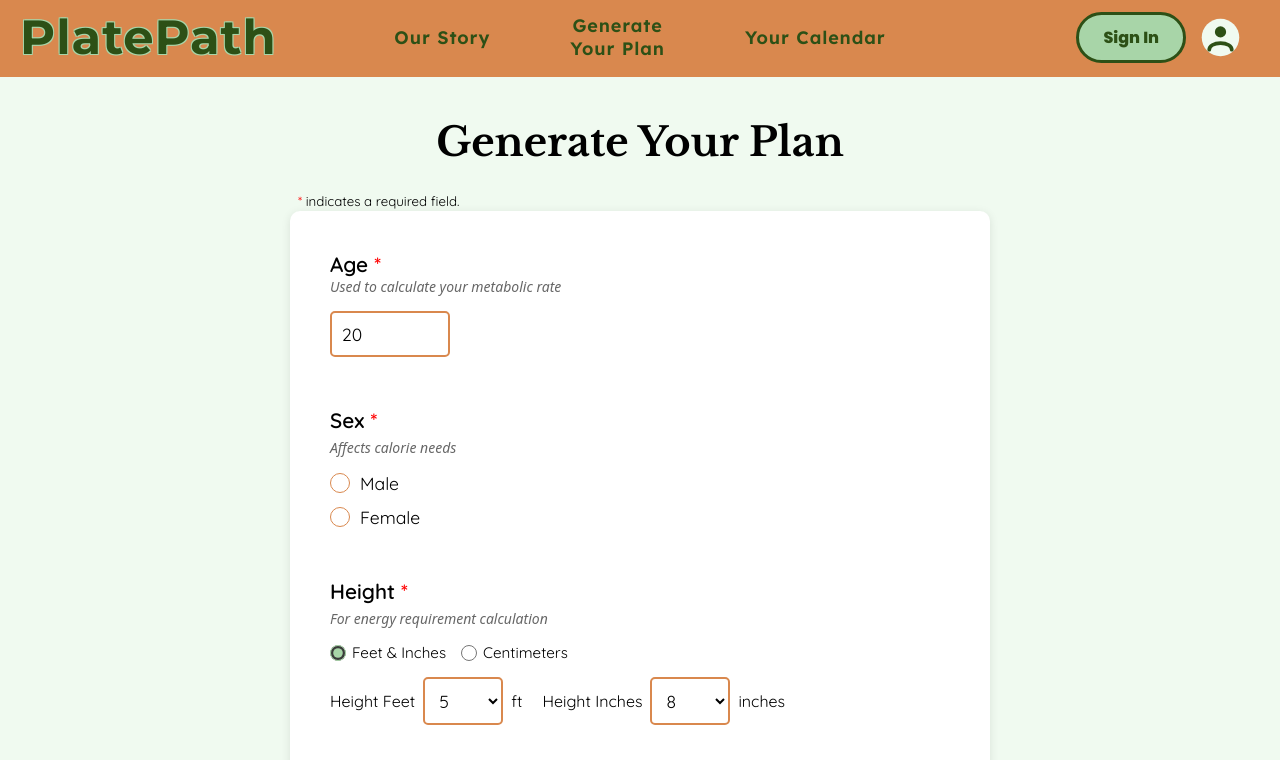
GeneratePlan - Functional Tests › Form Validation › should show validation errors when submitting empty form
Clear the number field labelled "Age *" at [390, 334], box [330,311,450,357]
(page scrolled)
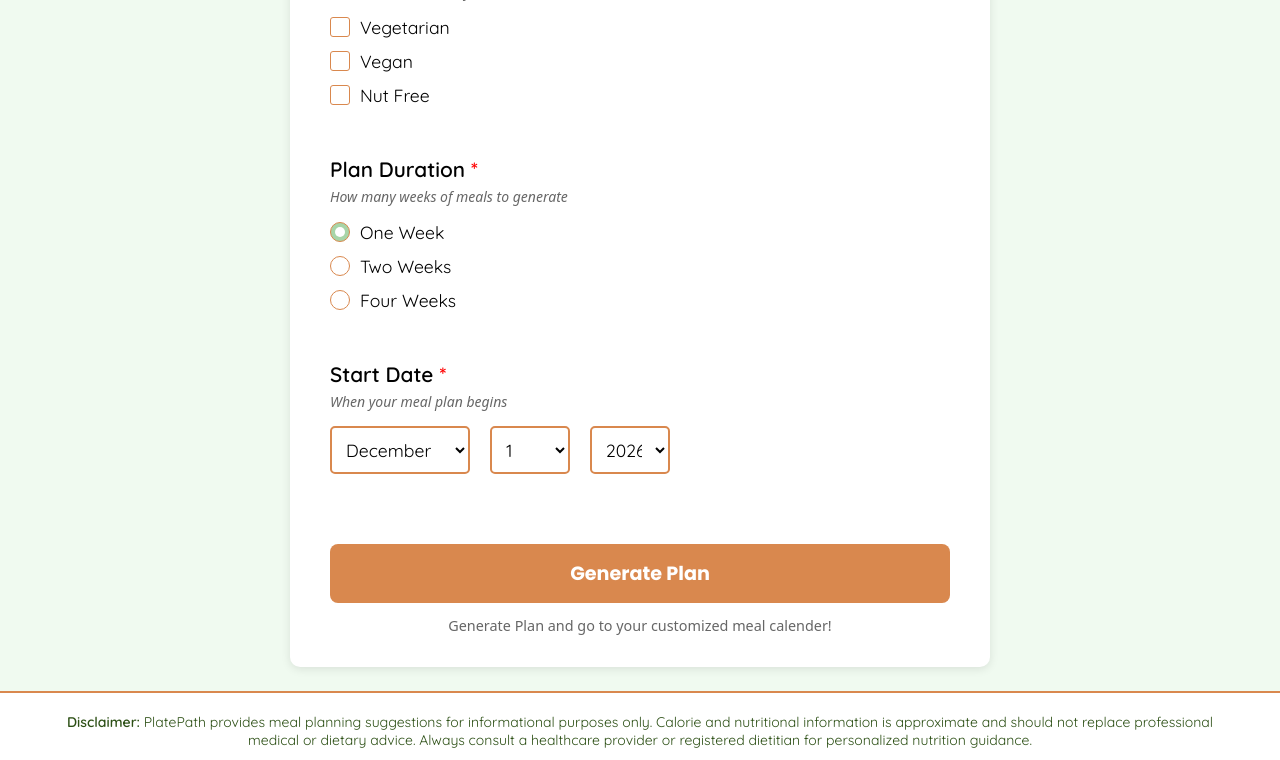
Click the button with aria-label "generate meal plan based on your preferences" at [640, 574], box [330,544,950,603]
(page scrolled)
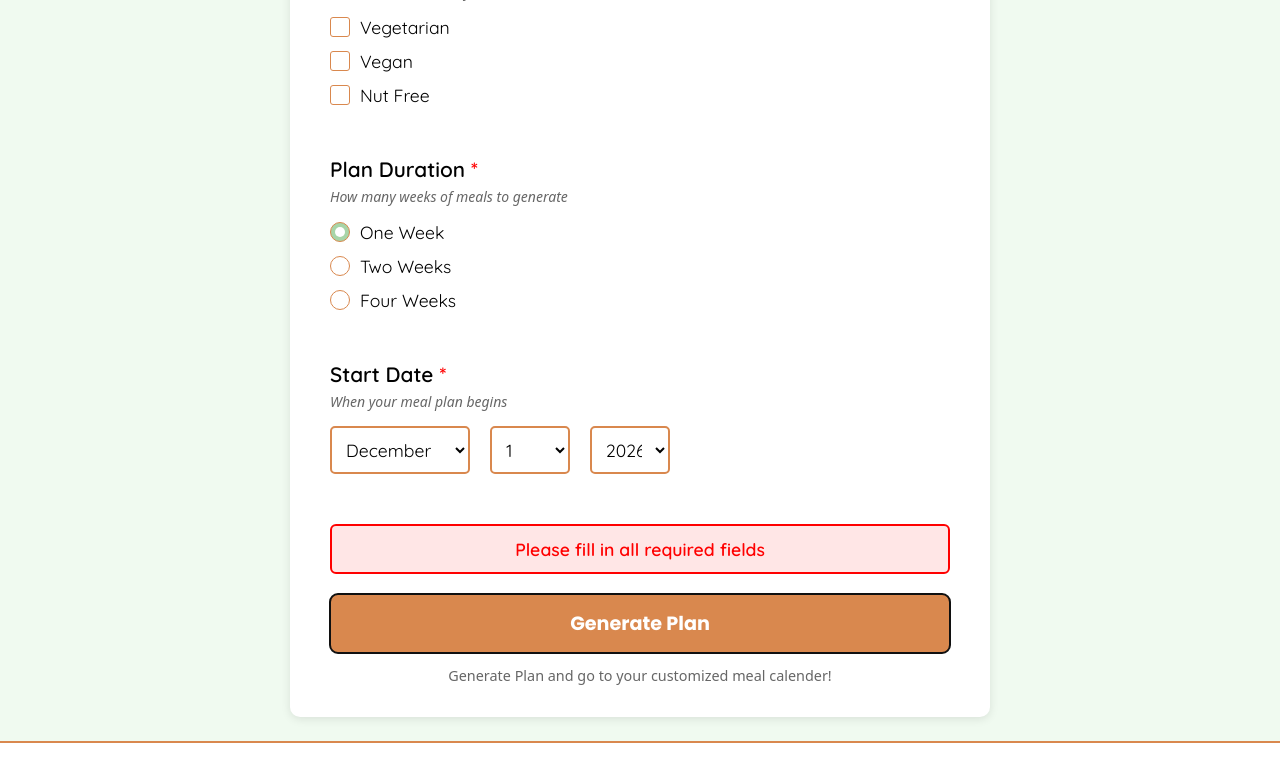
Expected: the message reads "Please fill in all required fields", [515,538,765,560]
